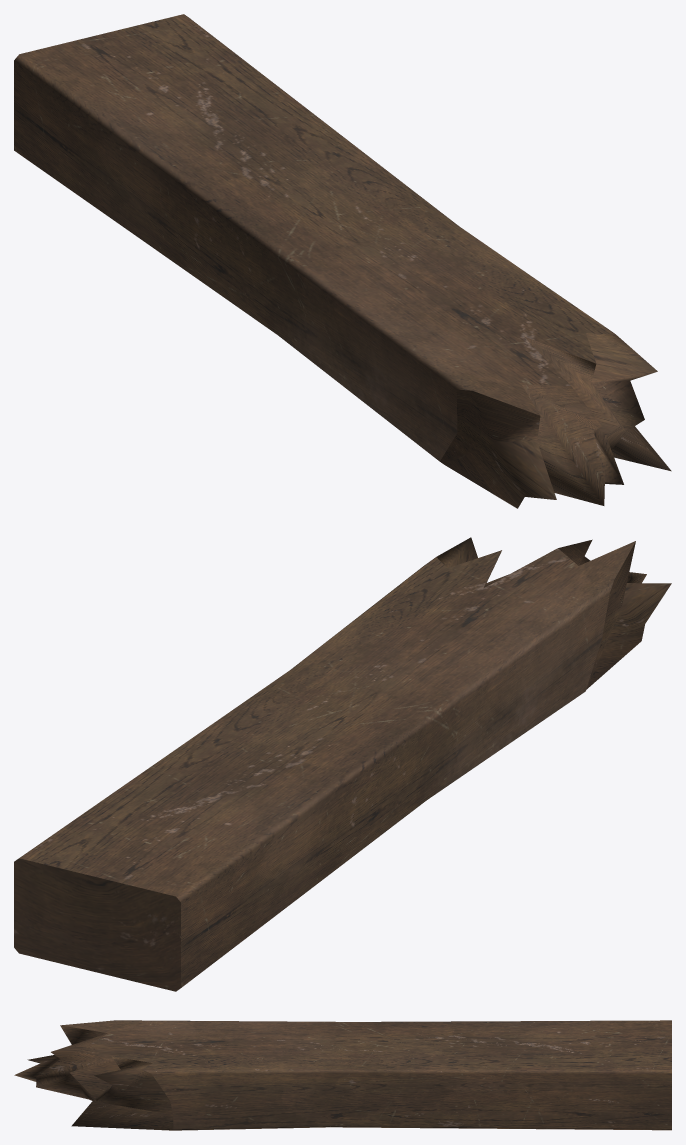
Rendered from SM_Wooden_Beam_05.fbx.
The picture shows the model from 3 angles, top to bottom: view 1: azimuth 30°, elevation 25°; view 2: azimuth 150°, elevation 25°; view 3: azimuth 270°, elevation 25°; orthographic projection. The views are drawn at different scales.
Parts seen in each view (by area): view 1: SM_Wooden_Beam_05_LOD0; view 2: SM_Wooden_Beam_05_LOD0; view 3: SM_Wooden_Beam_05_LOD0.
Boxes of the visible parts, bbox=[...] form: SM_Wooden_Beam_05_LOD0: bbox=[14, 14, 671, 508]; SM_Wooden_Beam_05_LOD0: bbox=[14, 537, 671, 991]; SM_Wooden_Beam_05_LOD0: bbox=[14, 1020, 671, 1130].
Size of what is drawn, in the model's own units: 49.72 by 27.06 by 258.
